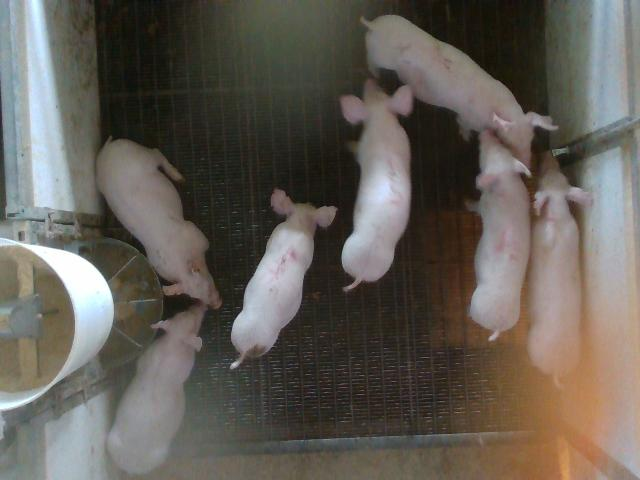pig-3: (340, 79, 411, 291)
pig-4: (469, 130, 531, 341)
pig-5: (230, 191, 336, 368)
